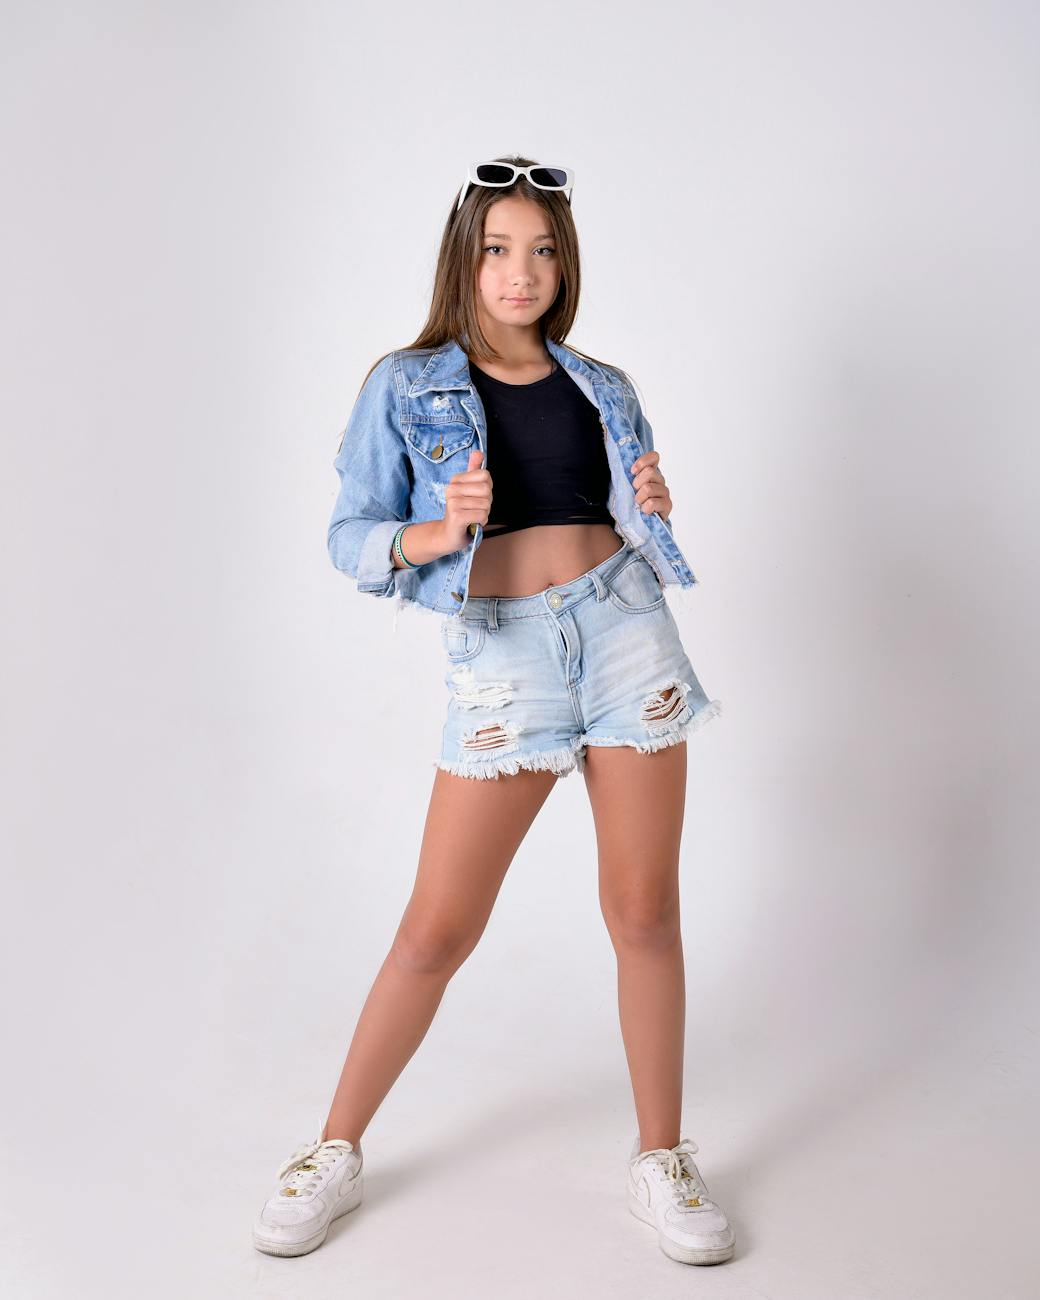crop_top: (428, 348, 631, 540)
shorts: (426, 551, 710, 779)
